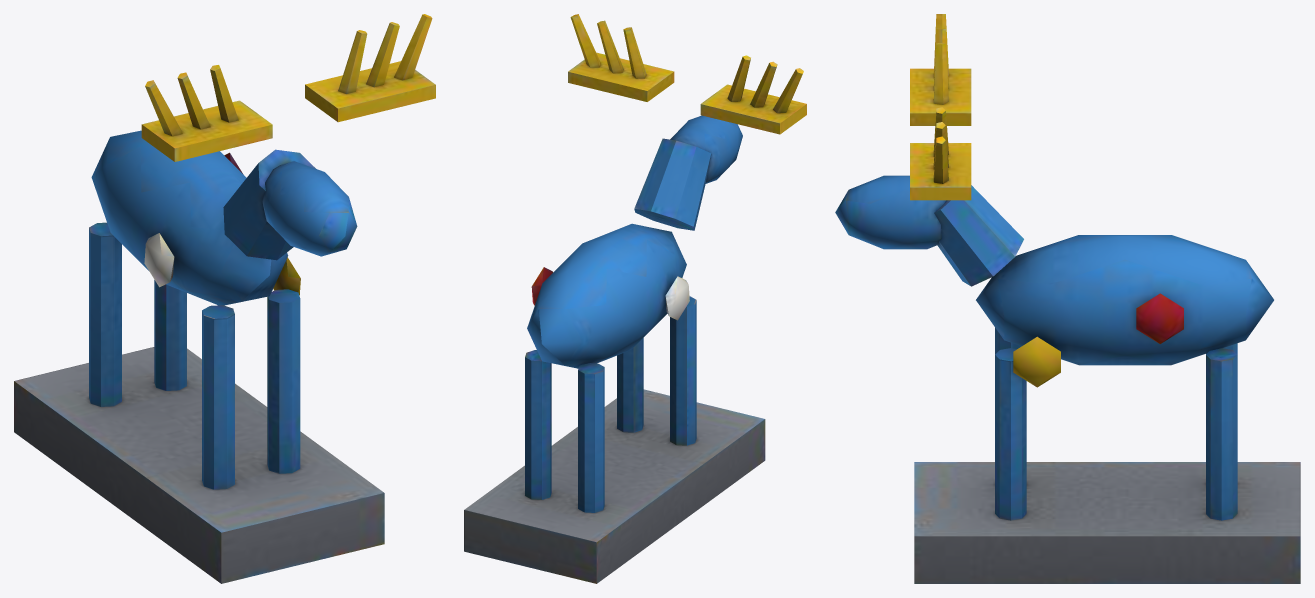
File: alce_pintado.glb
The picture shows the model from 3 angles, left to right: view 1: azimuth 30°, elevation 25°; view 2: azimuth 150°, elevation 25°; view 3: azimuth 270°, elevation 25°; orthographic projection. The views are drawn at different scales.
Visible parts, largest first — view 1: alce_pintado; view 2: alce_pintado; view 3: alce_pintado.
Part boxes in pixels (left/top/right/bottom): alce_pintado: left=14, top=14, right=435, bottom=583; alce_pintado: left=464, top=14, right=806, bottom=583; alce_pintado: left=835, top=14, right=1300, bottom=583.
Bounding box in the file's own units: 1.75 × 2.96 × 2.65.
Materials: 1 (1 with a texture image).
